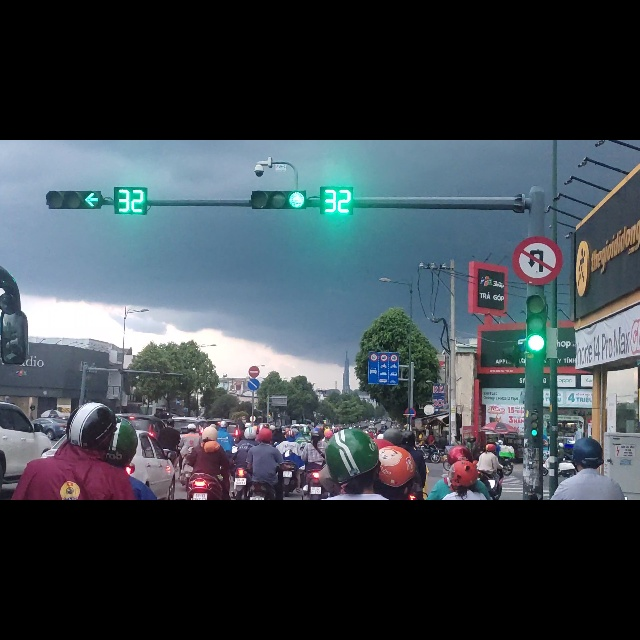bien_hieu_lenh: (512, 169, 563, 258), (368, 376, 399, 436), (248, 401, 260, 424), (248, 424, 260, 446)
